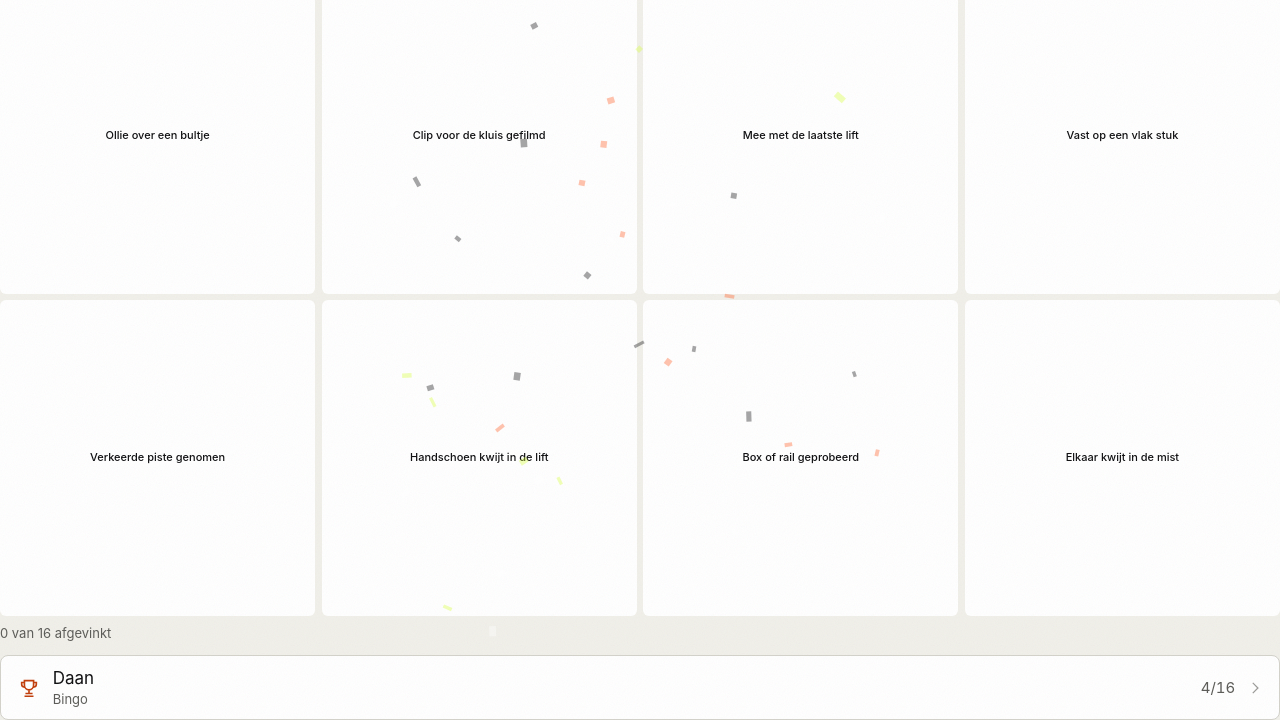
Test case: trip-bingo › stand van de crew: wie als eerste bingo had, en de kaart van een maat bekijken (niet afvinken)
(page scrolled)
Check: the text "4/16" is shown, box left=1201, top=677, right=1235, bottom=698
Check: the text "Bingo" is shown, box left=53, top=691, right=88, bottom=707
Click the button "Daan Bingo 4/16". click: x=73, y=678
box: left=1, top=656, right=1279, bottom=719
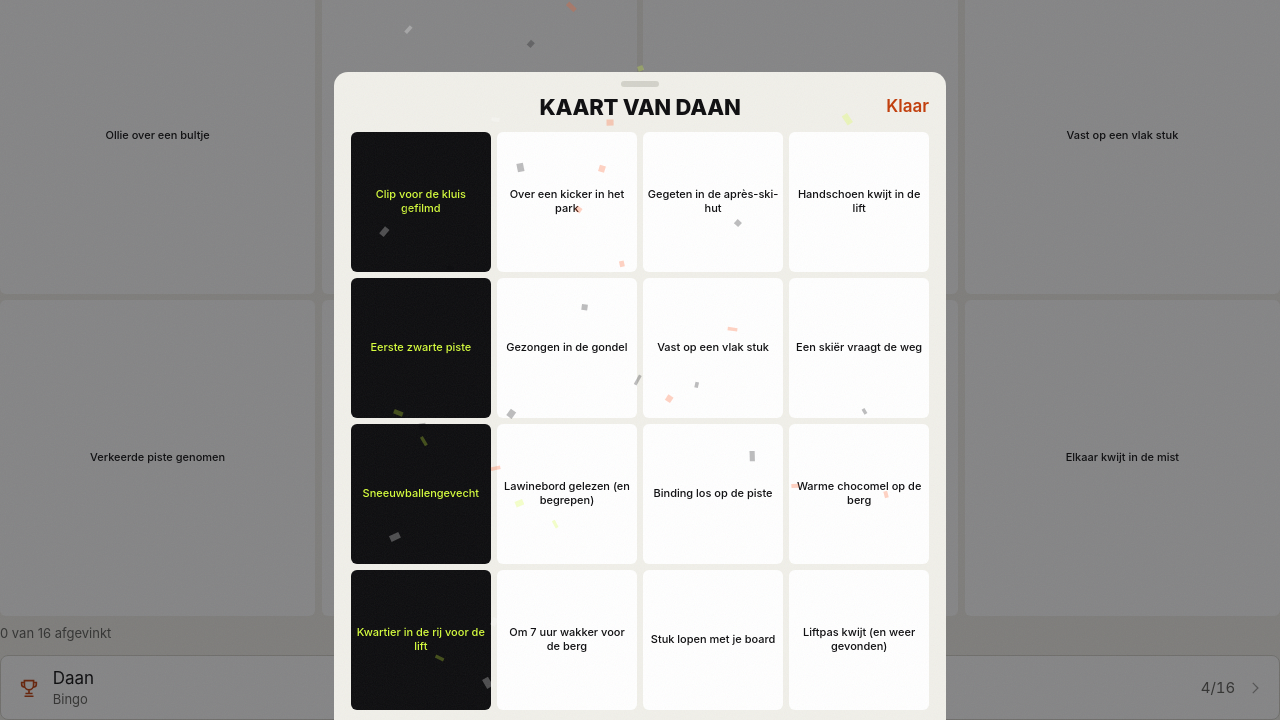
Check: the button "Clip voor de kluis gefilmd" is disabled, box left=351, top=132, right=491, bottom=272
